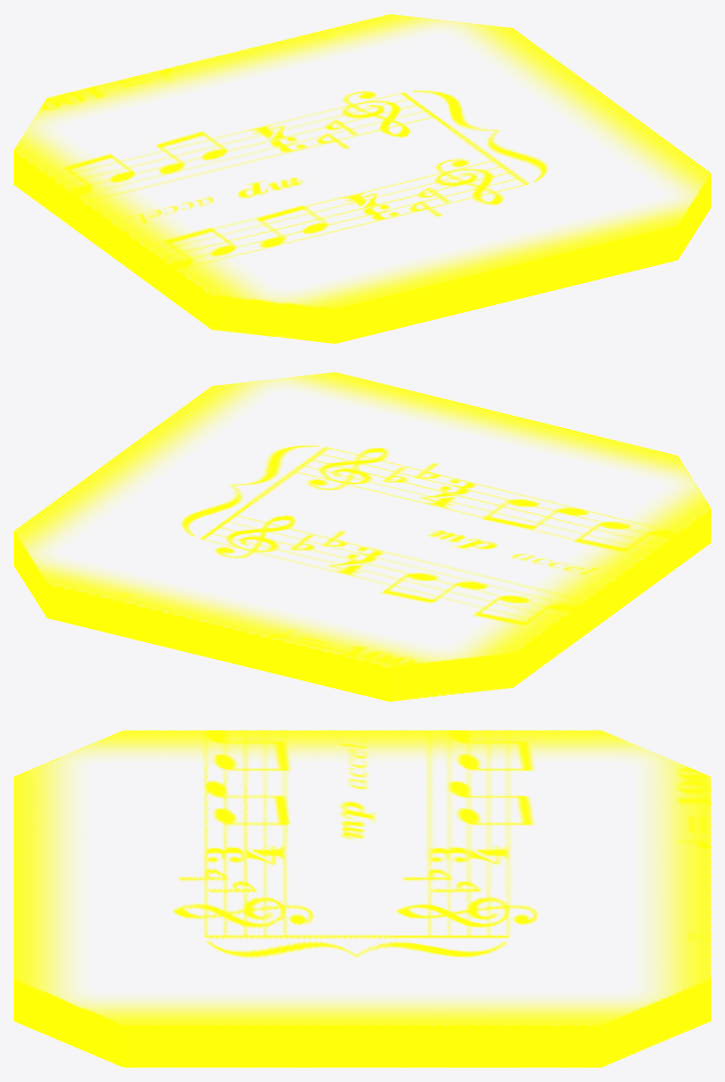
The model's file is platform_yellow.glb.
The picture shows the model from 3 angles, top to bottom: view 1: azimuth 30°, elevation 25°; view 2: azimuth 150°, elevation 25°; view 3: azimuth 270°, elevation 25°; orthographic projection. The views are drawn at different scales.
Parts seen in each view (by area): view 1: Plane.002; view 2: Plane.002; view 3: Plane.002.
Boxes of the visible parts, x1,y1,x2,y2 form: Plane.002: (14,14,710,343); Plane.002: (14,372,710,701); Plane.002: (14,730,710,1067).
Size of what is drawn, in the model's own units: 5 by 0.3369 by 5.
Materials: 1 (1 with a texture image).
